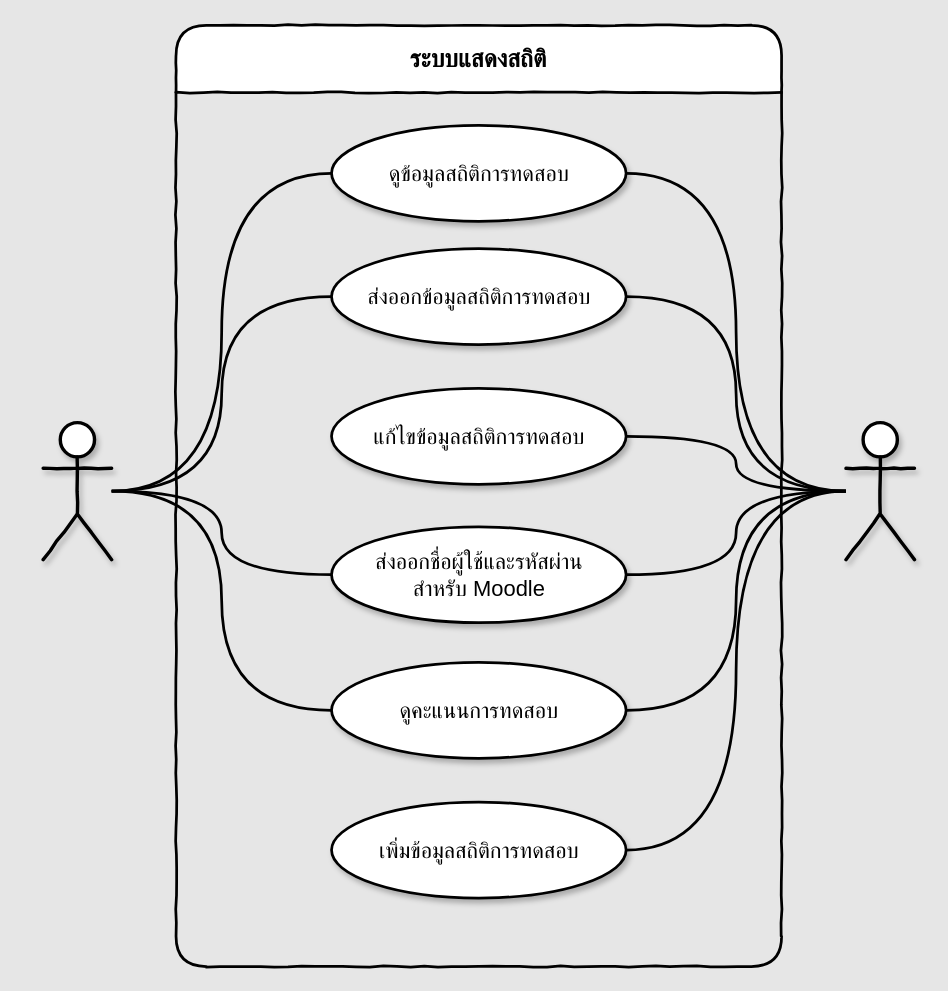
This 948x991 diagram has some shape labels left out. Each missing label, with the centre of its shape:
ผู้ดูแลระบบ: the point at 881,492
ผู้ประสานงาน: the point at 78,492
